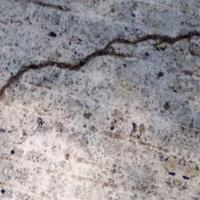crack: (0, 18, 199, 87)
